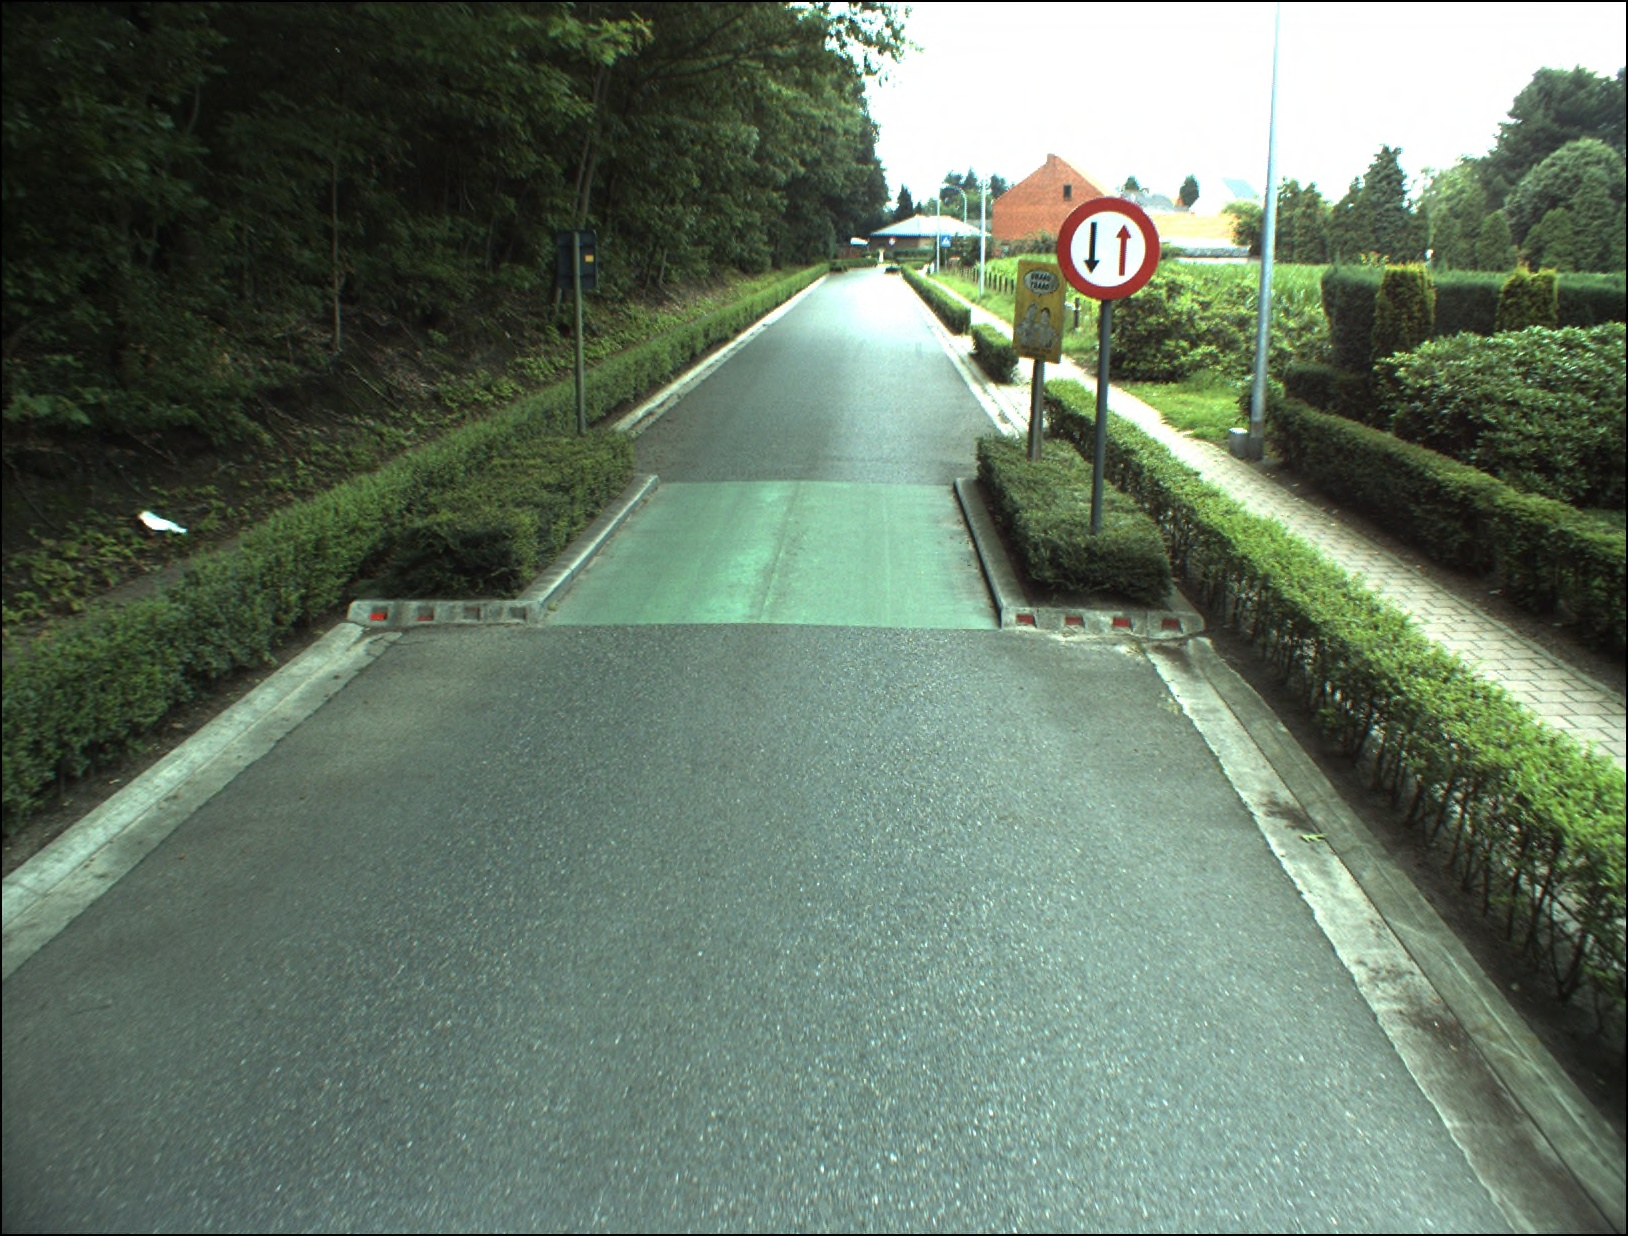roadnarrow2: (1057, 196, 1163, 301)
